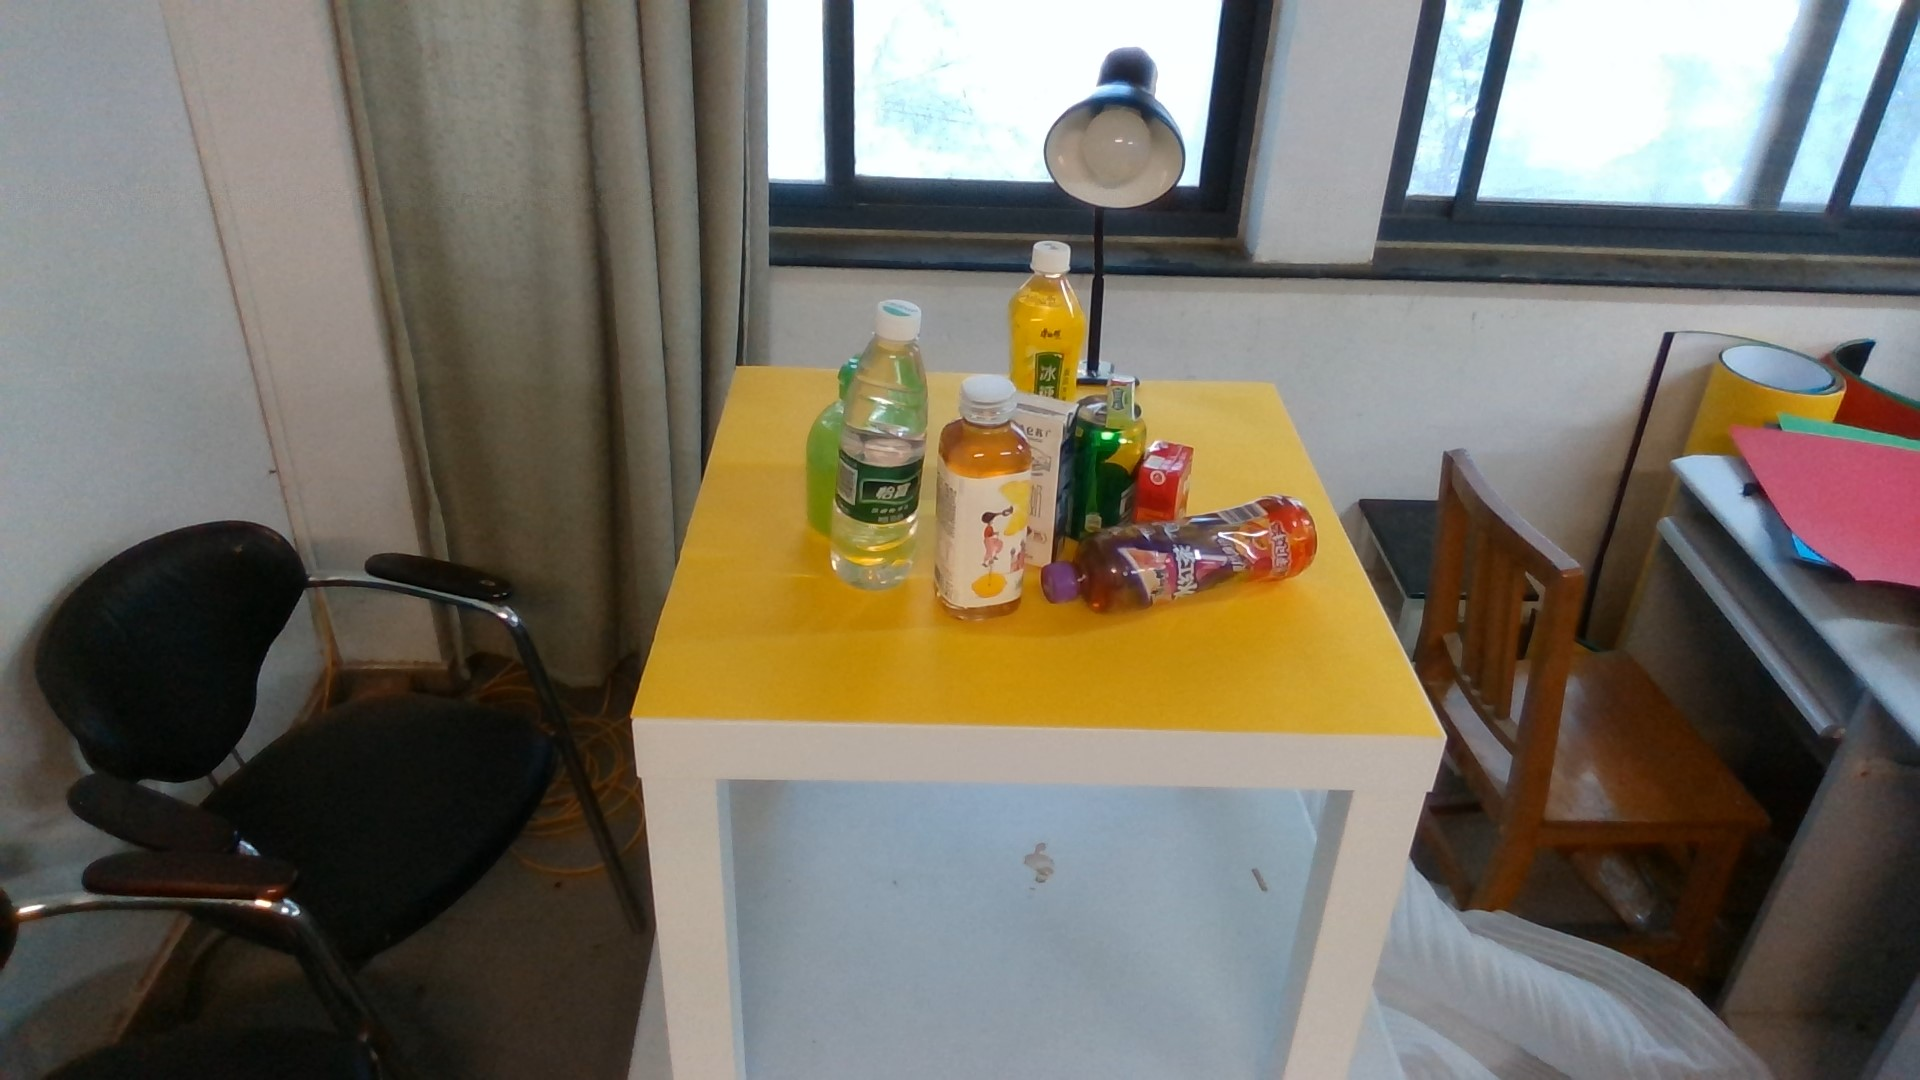BB002: (1100, 375, 1130, 430)
BB010: (1033, 396, 1076, 563)
BB012: (1141, 440, 1193, 524)
ZA002: (804, 404, 832, 535)
ZC001: (1075, 429, 1141, 524)
ZC009: (1079, 524, 1317, 612)
ZC011: (1007, 237, 1088, 371)
ZC012: (934, 373, 1033, 621)
ZC017: (833, 295, 928, 593)
